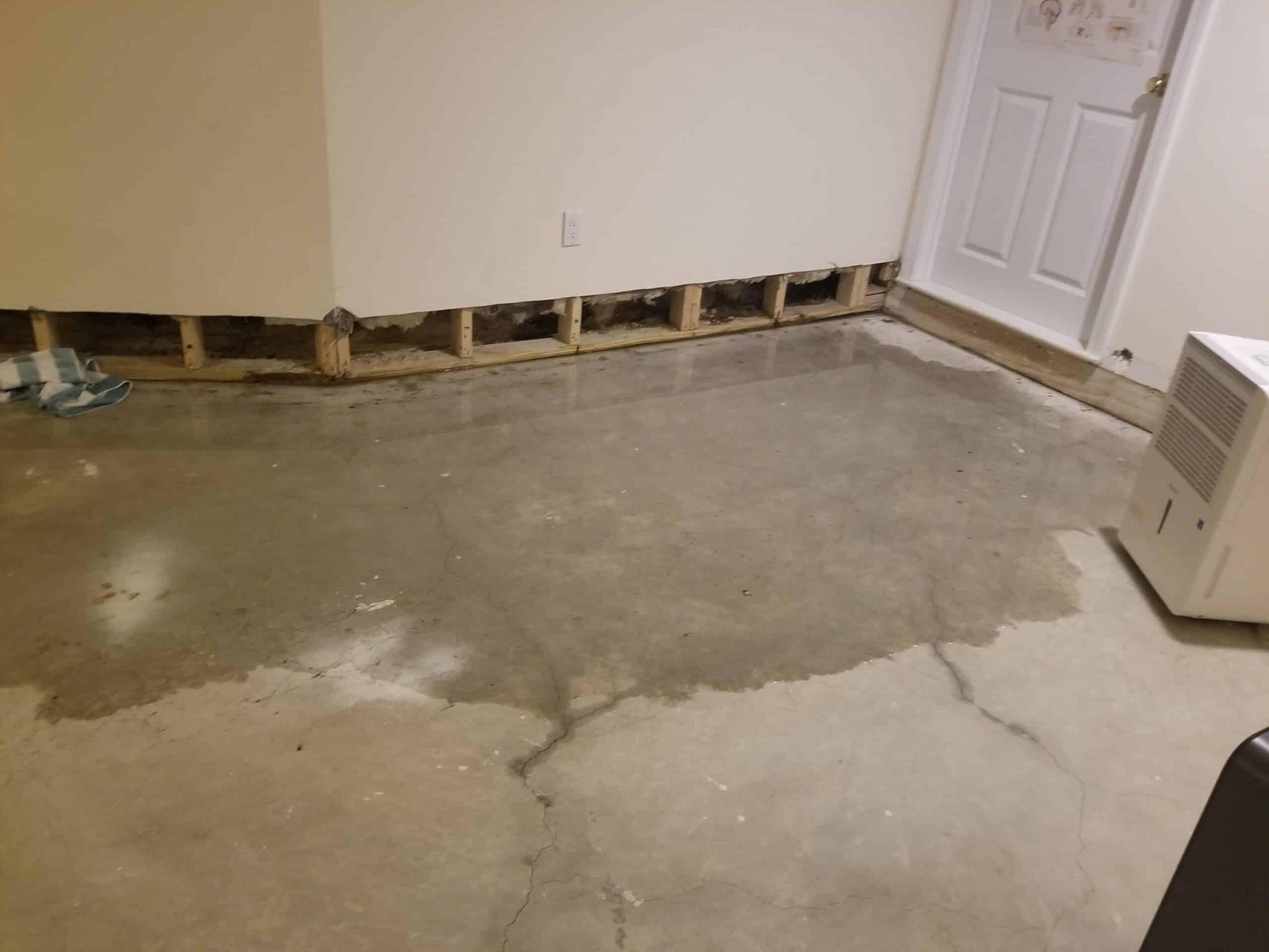water accumulation: (0, 341, 1141, 728)
